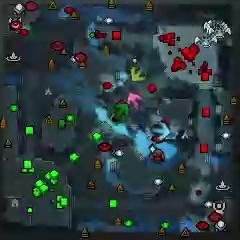x1: (126, 93, 141, 109)
x2: (130, 67, 148, 83)
x3: (154, 123, 171, 140)
x4: (114, 104, 129, 121)
